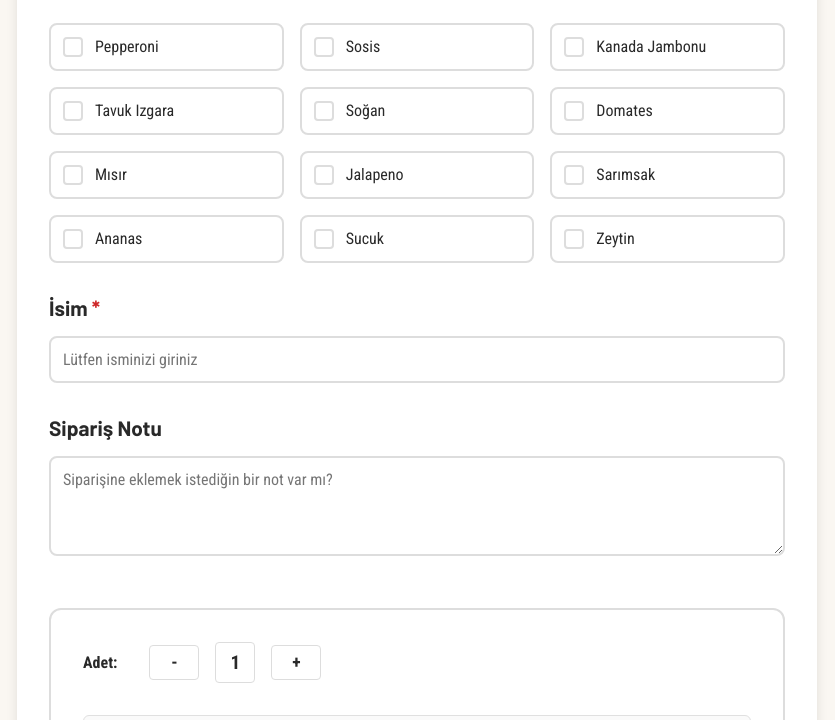
Form Validation Tests › Name Validation › should show error for name less than 3 characters
(page scrolled)
Type "Ab" into the field with test id "name-input" at (417, 360), box [49,336,785,383]
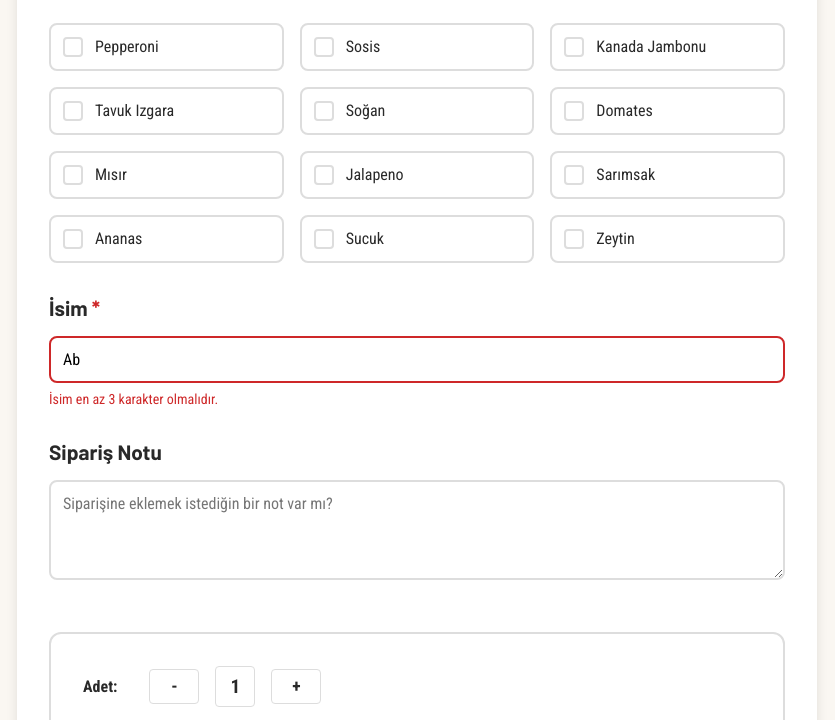
Now the text "İsim en az 3 karakter olmalıdır." is shown, box [49,391,218,407]
